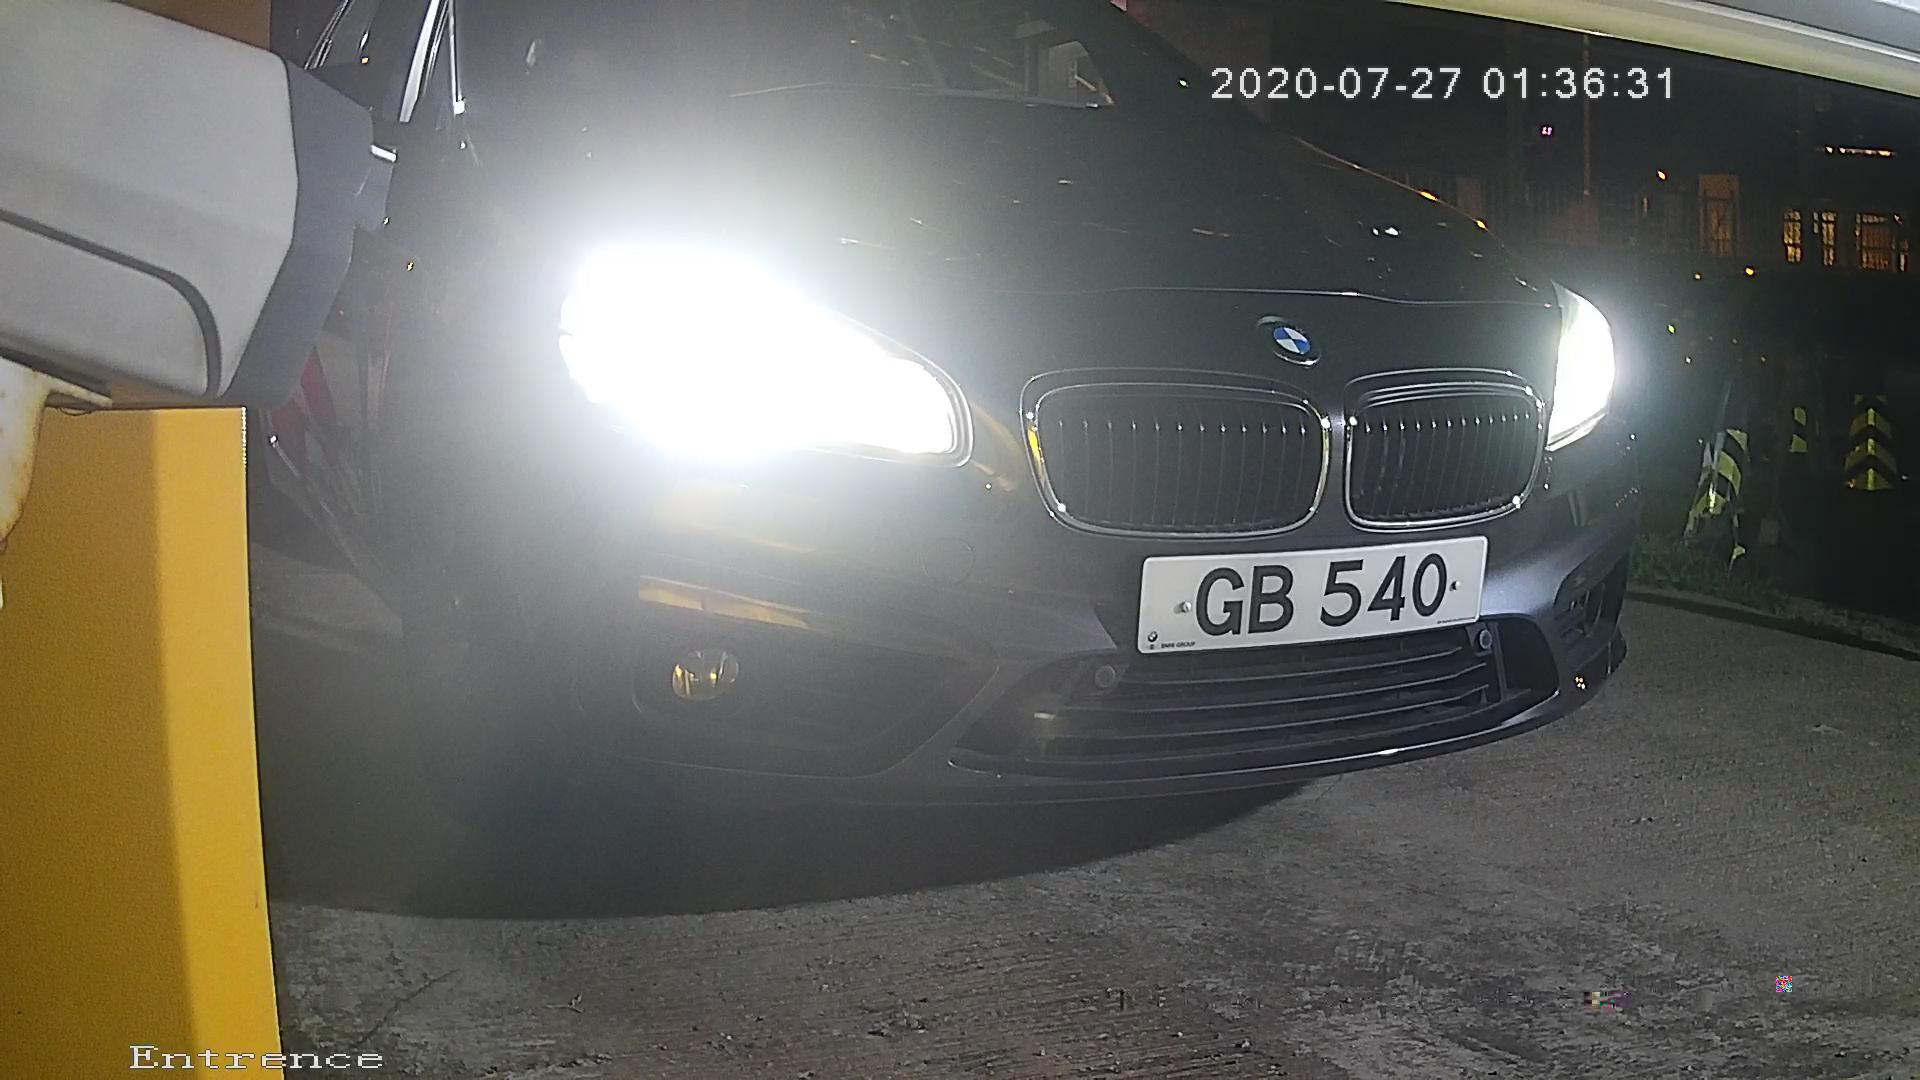Car: (95, 54, 1741, 835)
License Plate: (1115, 526, 1509, 656)
